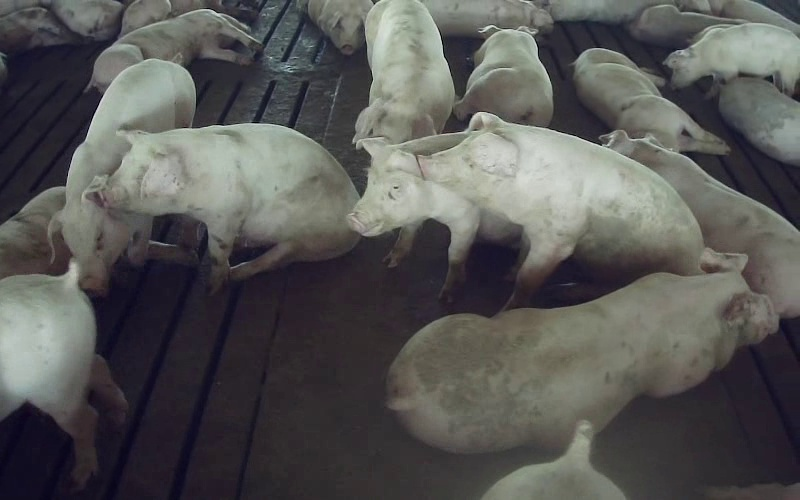pig: (387, 248, 777, 451), (416, 113, 703, 307), (85, 124, 358, 291), (600, 130, 799, 316), (348, 133, 519, 301), (0, 261, 126, 488), (573, 48, 729, 154), (353, 0, 454, 142), (454, 26, 552, 126), (664, 23, 799, 95), (719, 77, 799, 166), (298, 0, 372, 54)
